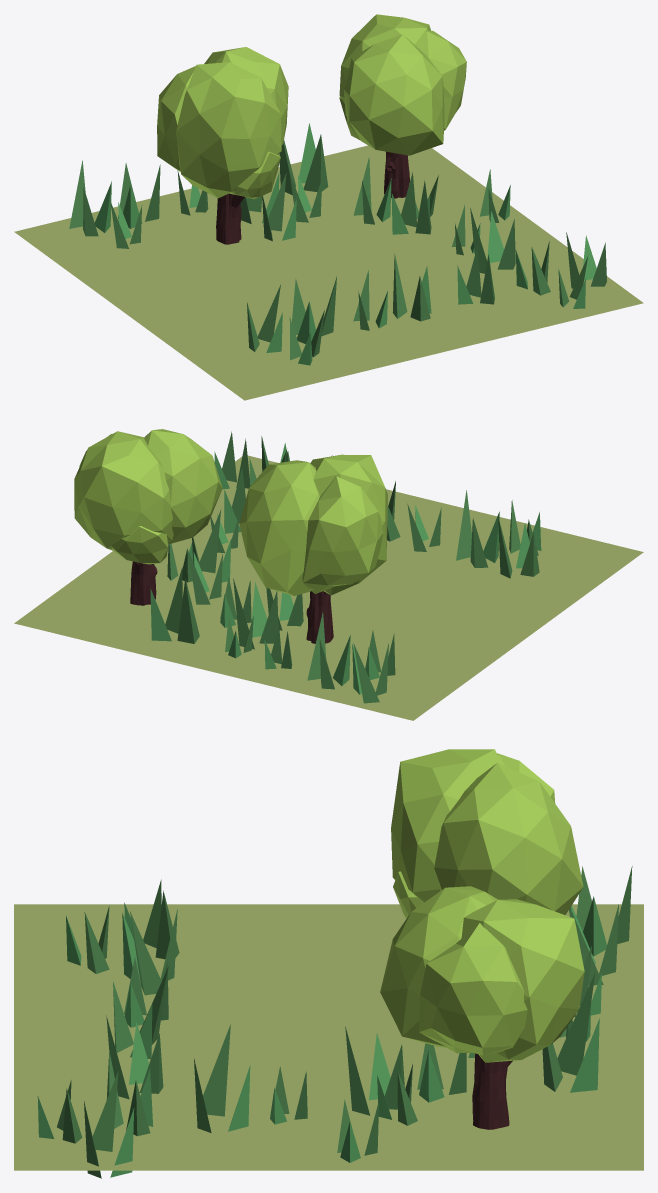
Rendered from LADDA_Ground.glb.
The picture shows the model from 3 angles, top to bottom: view 1: azimuth 30°, elevation 25°; view 2: azimuth 150°, elevation 25°; view 3: azimuth 270°, elevation 25°; orthographic projection. The views are drawn at different scales.
Parts seen in each view (by area): view 1: Cube.001, Icosphere.001, Icosphere, Cone.006, Cone.022, Cone.002, Cone.024, Cone.014, Cone.017, Cone.018, Cone.013, Cone.001 (+12 smaller); view 2: Cube.001, Icosphere.001, Icosphere, Cone.006, Cone.014, Cone.007, Cone.001, Cone.013, Cone.002, Cone.024, Cone.021, Cone.010 (+10 smaller); view 3: Cube.001, Icosphere, Icosphere.001, Cone.006, Cone.022, Cone.024, Cone.021, Cone.014, Cone.018, Cone.002, Cone.017, Cone.010 (+9 smaller).
Part boxes in pixels (x1,y1,x2,y2): Cube.001: [14, 145, 643, 400]; Icosphere.001: [157, 47, 288, 244]; Icosphere: [339, 14, 466, 198]; Cone.006: [279, 123, 328, 194]; Cone.022: [470, 208, 515, 273]; Cone.002: [69, 160, 111, 236]; Cone.024: [391, 172, 431, 234]; Cone.014: [292, 276, 336, 343]; Cone.017: [392, 253, 431, 321]; Cone.018: [457, 246, 494, 304]; Cone.013: [247, 284, 282, 352]; Cone.001: [118, 163, 160, 228]; Cube.001: [14, 455, 643, 720]; Icosphere.001: [239, 454, 387, 643]; Icosphere: [74, 429, 222, 605]; Cone.006: [150, 567, 199, 643]; Cone.014: [456, 490, 499, 567]; Cone.007: [233, 578, 278, 649]; Cone.001: [307, 612, 350, 689]; Cone.013: [498, 516, 539, 578]; Cone.002: [352, 642, 388, 703]; Cone.024: [192, 509, 231, 582]; Cone.021: [214, 431, 250, 489]; Cone.010: [188, 550, 222, 604]; Cube.001: [14, 904, 643, 1170]; Icosphere: [380, 886, 584, 1129]; Icosphere.001: [391, 749, 583, 918]; Cone.006: [542, 972, 599, 1092]; Cone.022: [194, 1024, 250, 1132]; Cone.024: [345, 1026, 404, 1115]; Cone.021: [84, 1071, 134, 1178]; Cone.014: [122, 909, 177, 995]; Cone.018: [106, 1015, 163, 1099]; Cone.002: [576, 866, 632, 956]; Cone.017: [113, 966, 168, 1059]; Cone.010: [417, 1043, 466, 1102].
Bounding box in the file's own units: 3.25 × 1.54 × 3.25.
